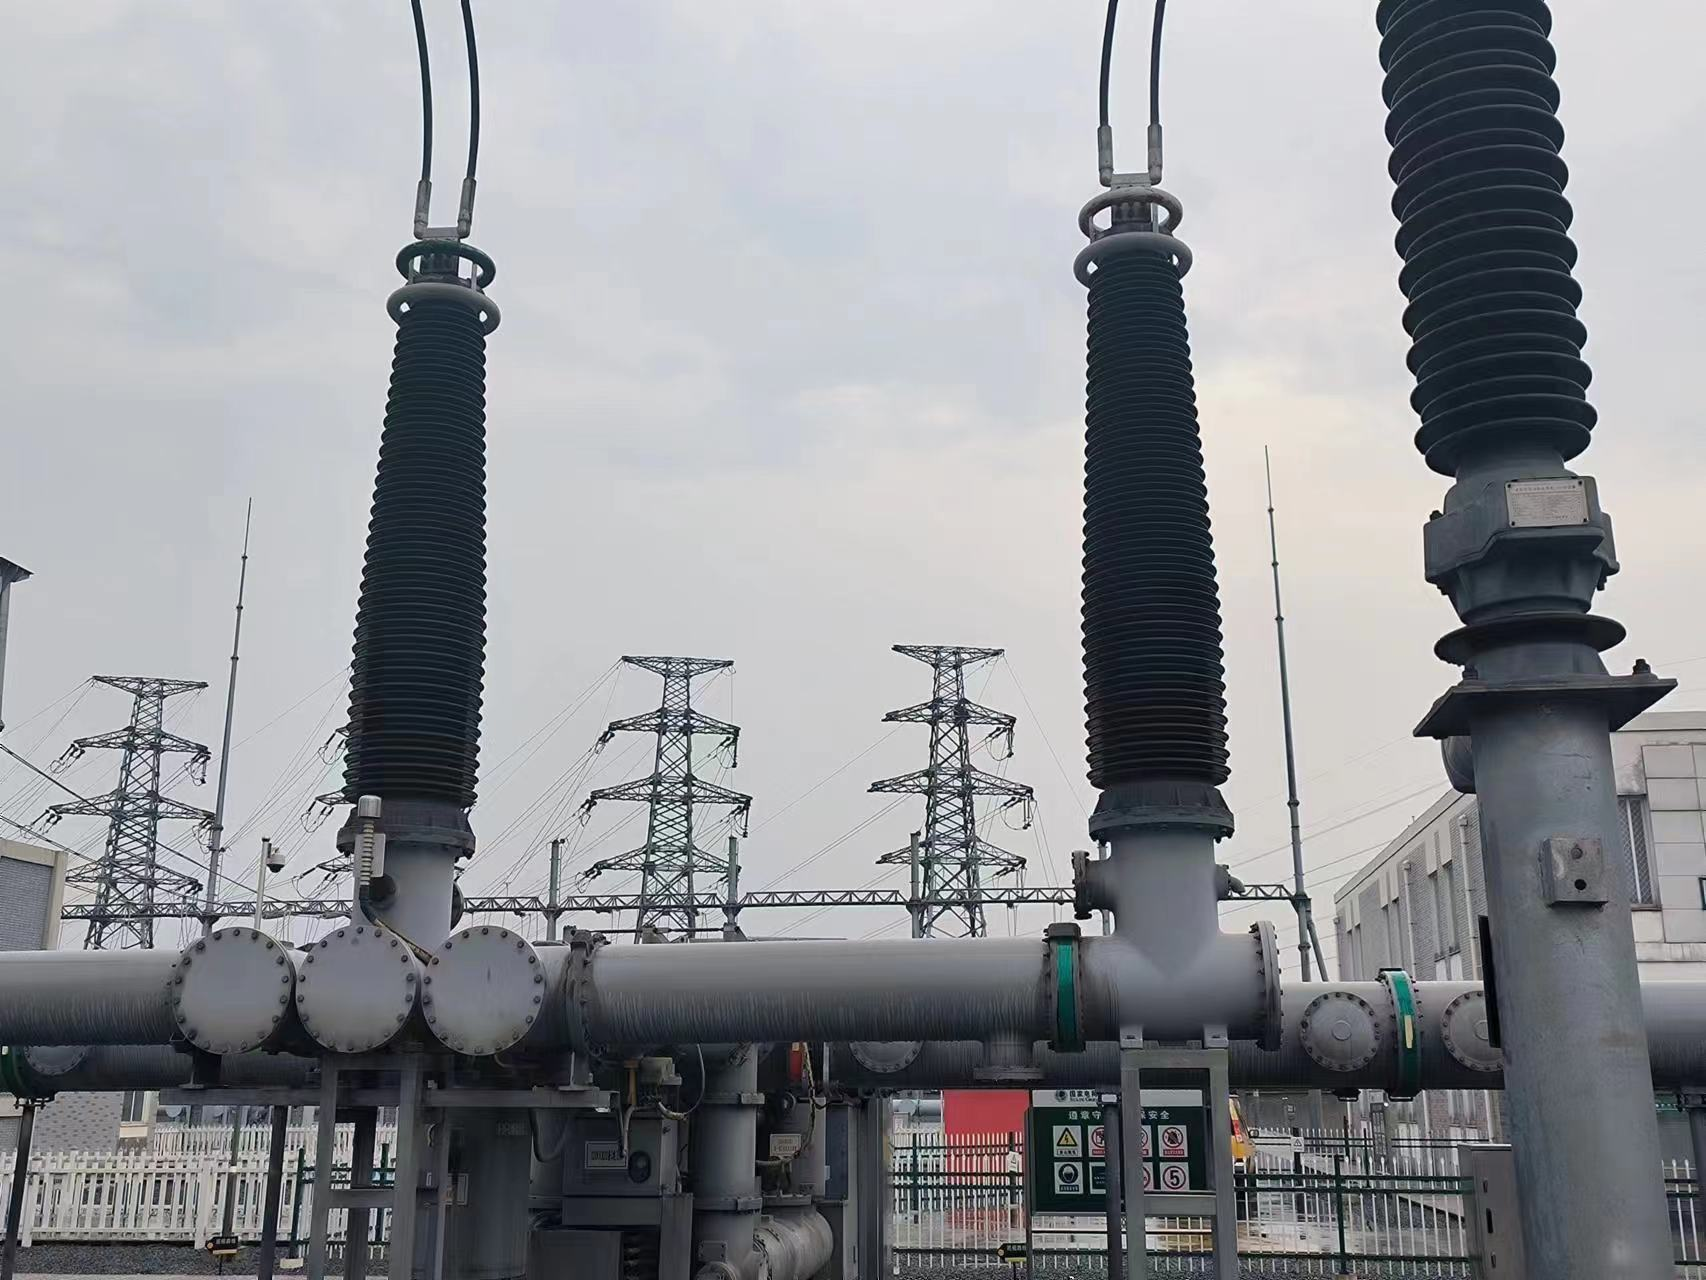Voltage transformer: (1069, 186, 1240, 787), (339, 237, 504, 811)
